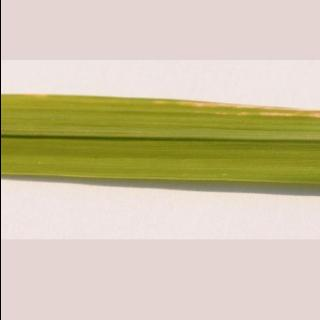Hawar-Daun: (104, 82, 320, 142)
